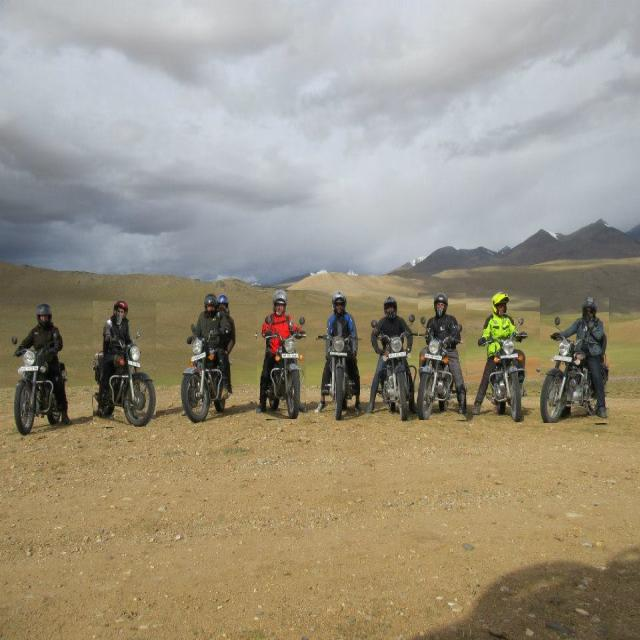motorcycle: (540, 297, 609, 423), (11, 303, 71, 435), (93, 301, 155, 427), (472, 292, 526, 421), (181, 295, 235, 421), (366, 297, 418, 420), (257, 290, 305, 419), (418, 294, 466, 420), (315, 292, 361, 419)
